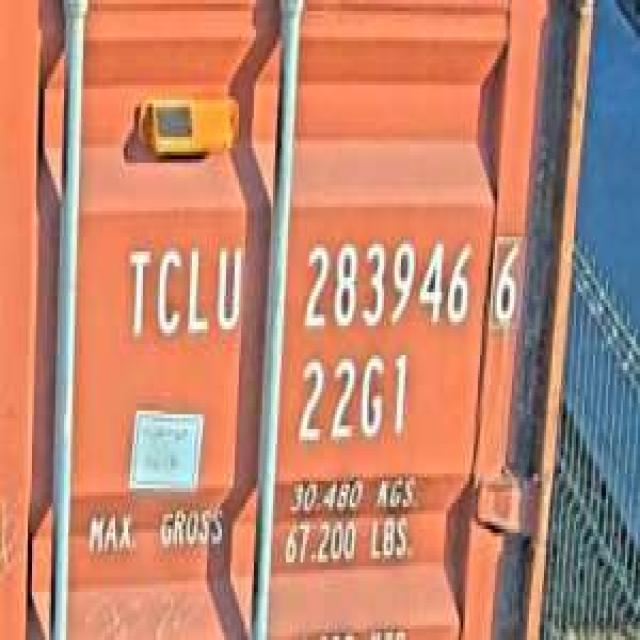dv: (486, 226, 525, 333)
owner: (120, 230, 246, 352)
serial: (294, 229, 473, 337)
size: (292, 344, 414, 455)
